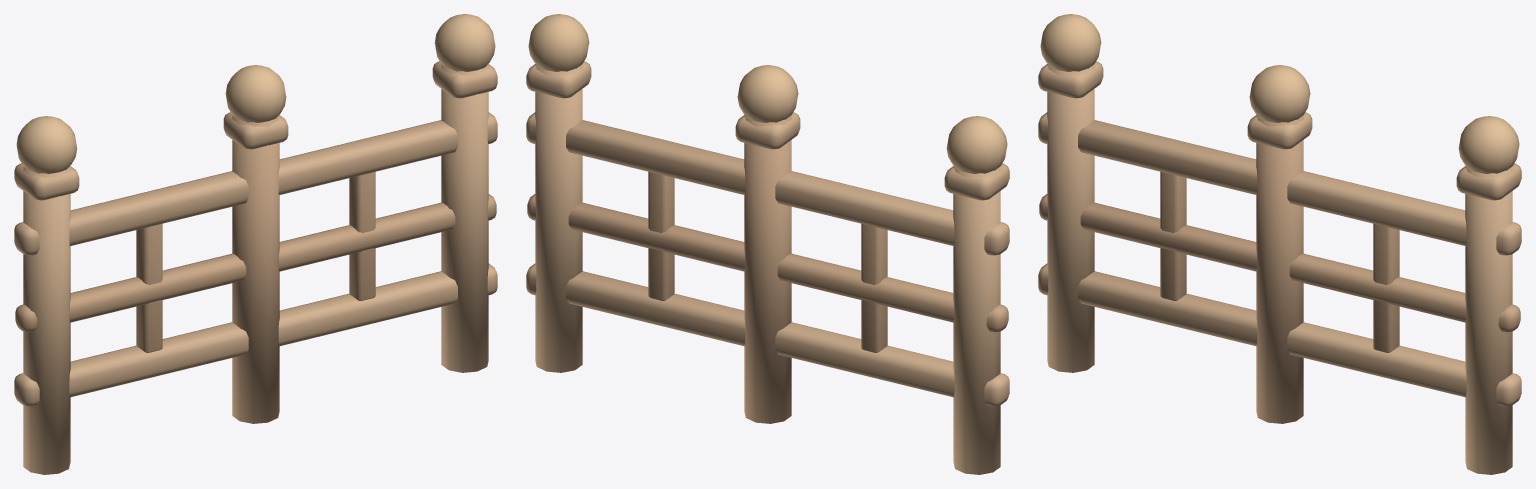
File: cozy_fence_section_A.glb
The picture shows the model from 3 angles, left to right: view 1: azimuth 30°, elevation 25°; view 2: azimuth 150°, elevation 25°; view 3: azimuth 330°, elevation 25°; orthographic projection.
Visible parts, largest first — view 1: RailTop, RailBot, Post0, Post1, Post2, RailMid, Fin0, Fin1, Fin2, Brace1, Brace0, Cap1 (+2 smaller); view 2: RailTop, RailBot, Post0, Post1, Post2, RailMid, Fin0, Fin1, Fin2, Brace1, Brace0, Cap1 (+2 smaller); view 3: RailTop, RailBot, Post2, Post1, Post0, RailMid, Fin2, Fin0, Fin1, Brace0, Brace1, Cap1 (+2 smaller).
Part boxes in pixels (x1,y1,x2,y2): RailTop: (14,112,497,255); RailBot: (14,263,497,406); Post0: (23,166,70,474); Post1: (232,115,279,423); Post2: (441,64,488,372); RailMid: (15,194,496,332); Fin0: (16,116,77,174); Fin1: (225,65,286,122); Fin2: (434,14,495,71); Brace1: (349,171,375,300); Brace0: (136,223,162,352); Cap1: (223,112,288,149); RailTop: (526,112,1009,255); RailBot: (526,263,1009,406); Post0: (953,166,1000,474); Post1: (744,115,791,423); Post2: (535,64,582,372); RailMid: (527,194,1008,332); Fin0: (946,116,1007,174); Fin1: (737,65,798,122); Fin2: (528,14,589,71); Brace1: (648,171,674,300); Brace0: (861,223,887,352); Cap1: (735,112,800,149); RailTop: (1038,112,1521,255); RailBot: (1038,263,1521,406); Post2: (1465,166,1512,474); Post1: (1256,115,1303,423); Post0: (1047,64,1094,372); RailMid: (1039,194,1520,332); Fin2: (1458,116,1519,174); Fin0: (1040,14,1101,71); Fin1: (1249,65,1310,122); Brace0: (1160,171,1186,300); Brace1: (1373,223,1399,352); Cap1: (1247,112,1312,149).
Bounding box in the file's own units: 1.25 × 0.87 × 0.14.
